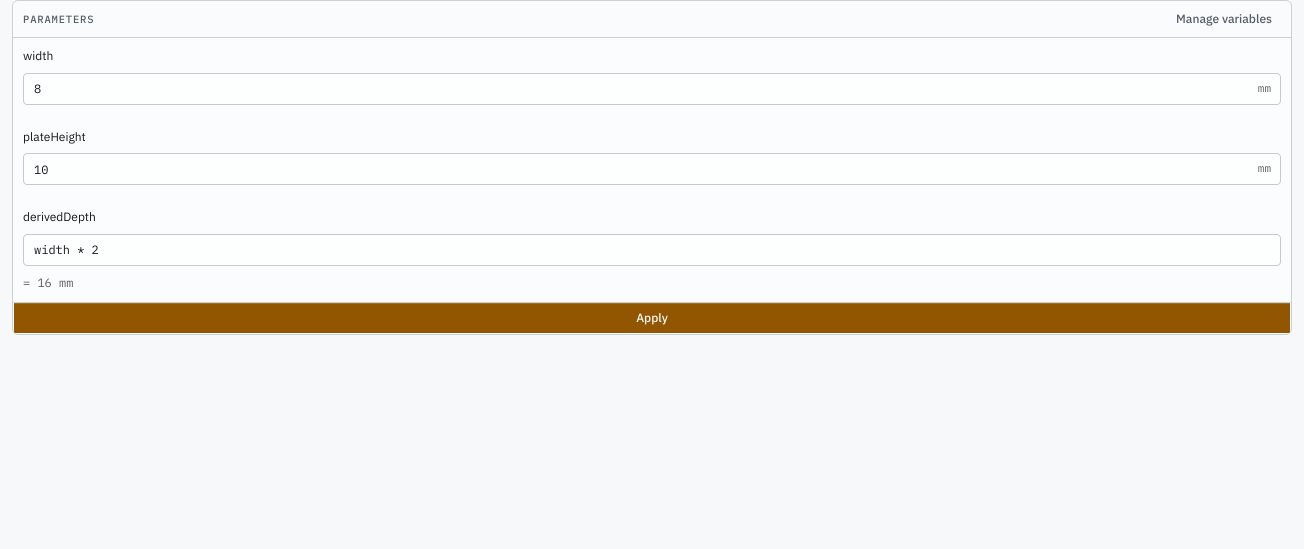
Test: CadParameterManager create › commits a negative literal — the previously-refused input — verbatim
Click the button "Manage variables": (1224, 19) [1167, 7, 1281, 31]
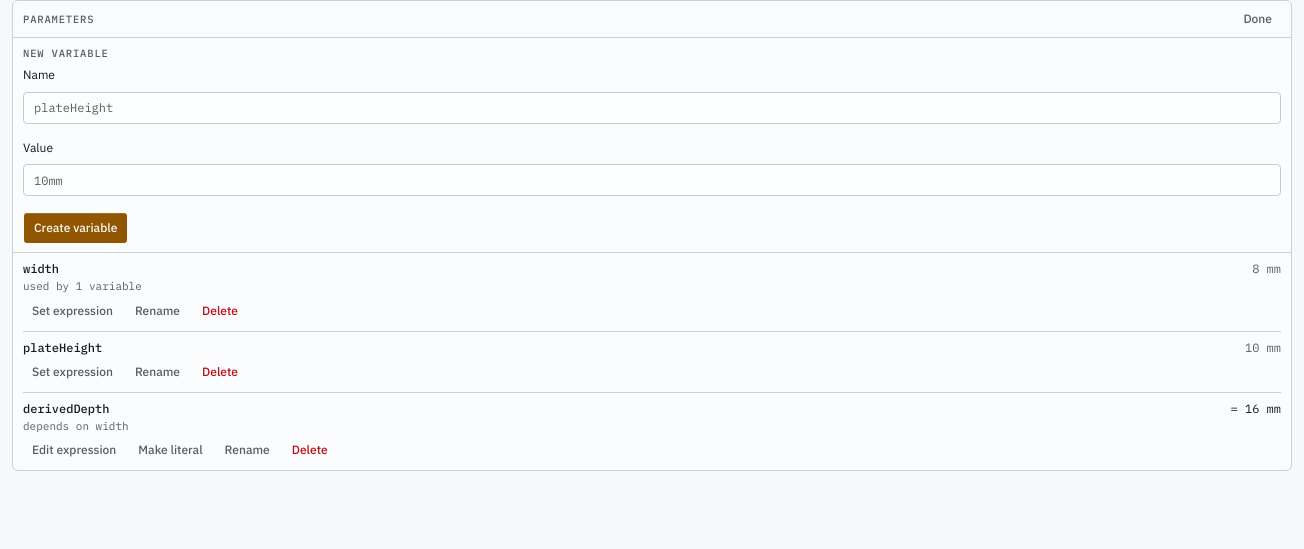
In the field labelled "Name": (652, 108) [23, 92, 1281, 124], type "caseDepth"
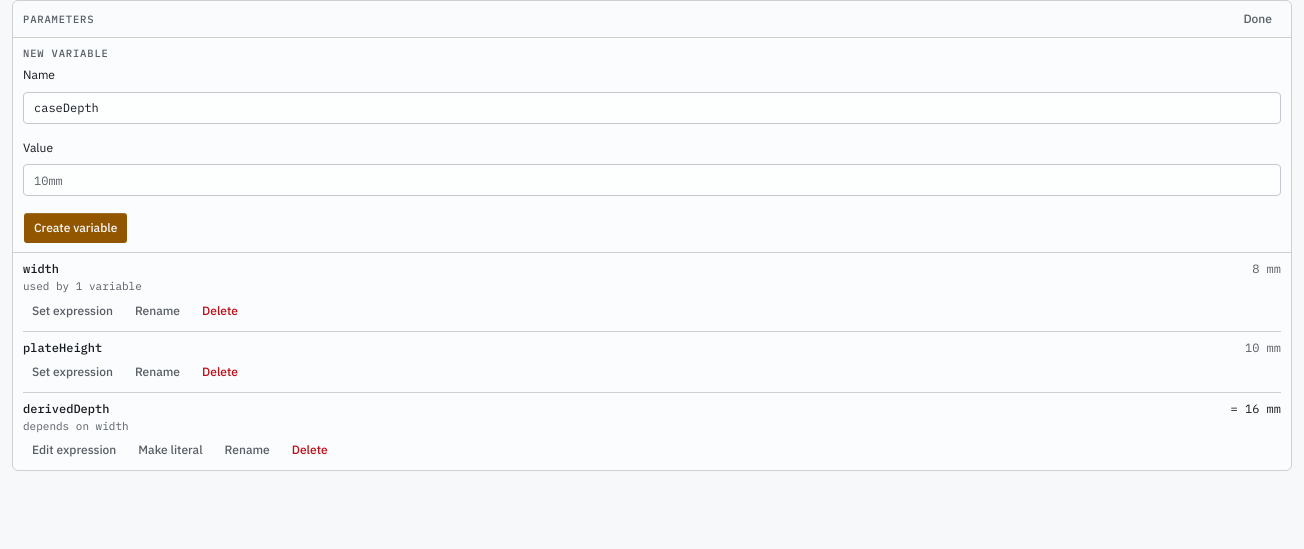
In the field labelled "Value": (652, 180) [23, 164, 1281, 196], type "-29.6mm"
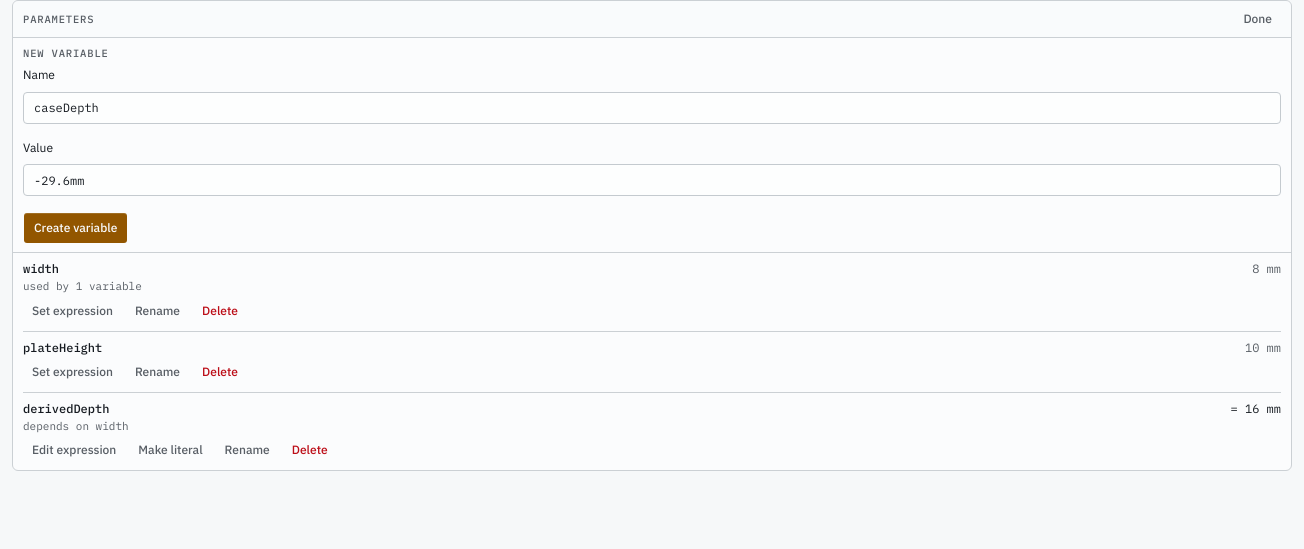
Click the button "Create variable": (76, 228) [23, 212, 128, 244]
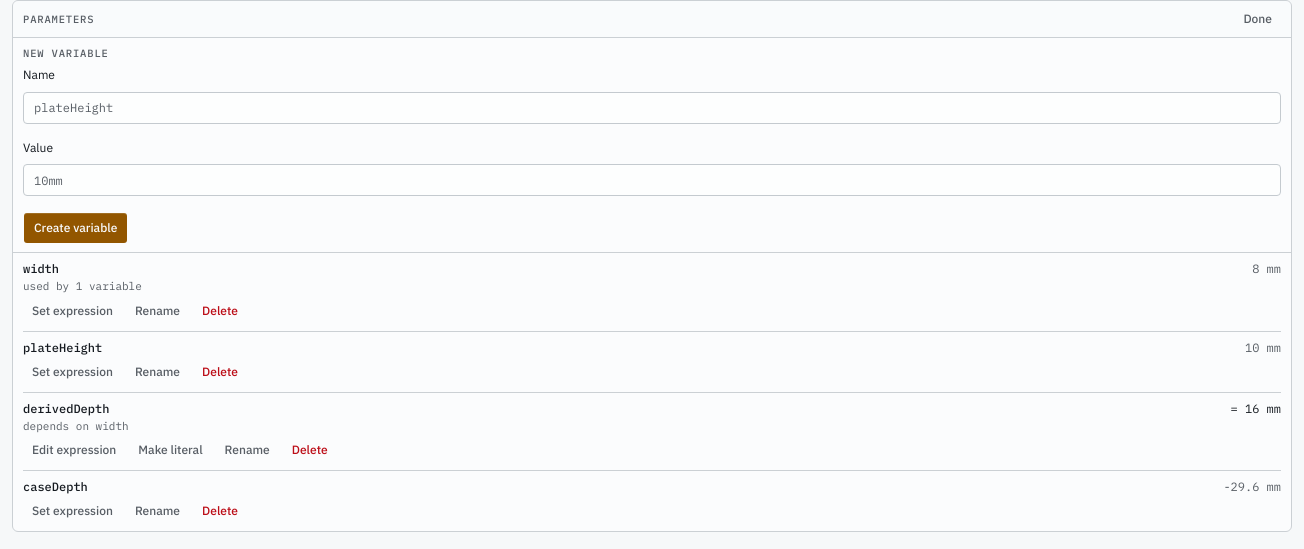
expect the text "-29.6 mm" is shown: met, box [1223, 479, 1281, 495]
